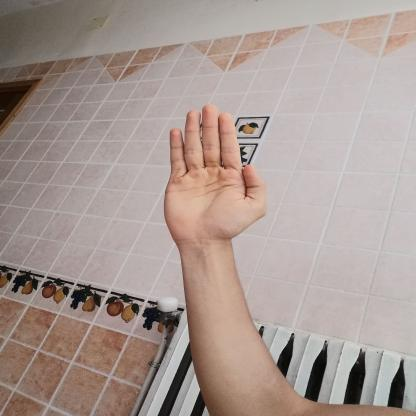SEEN: (152, 95, 276, 248)
